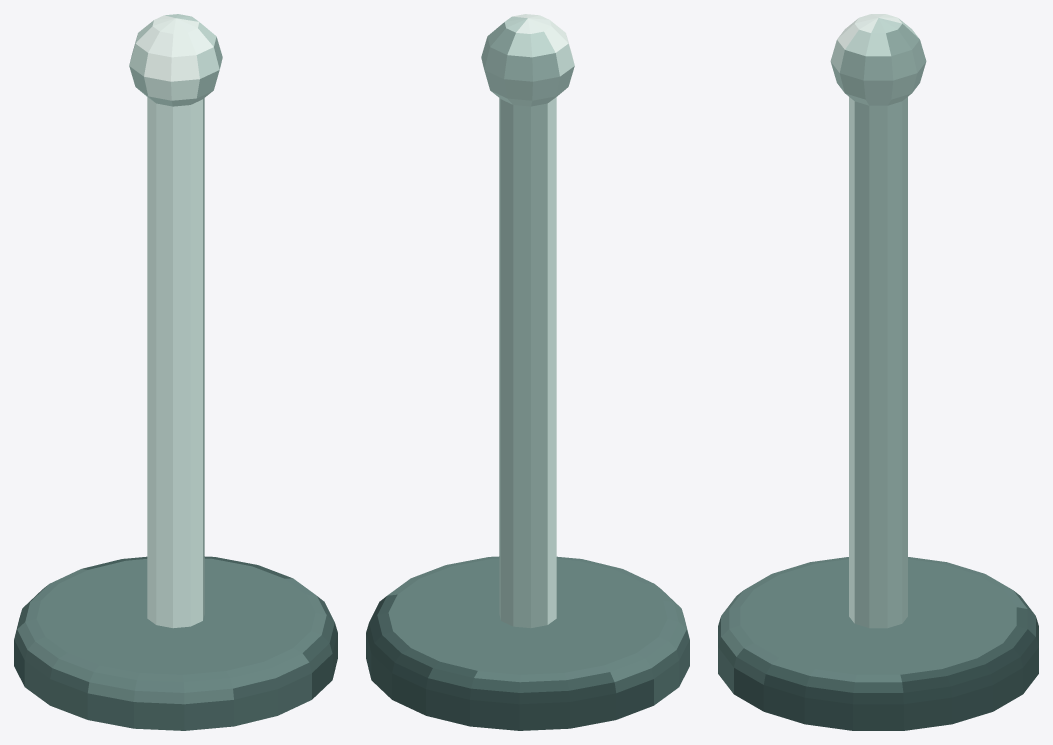
The model's file is Checkpoint_Post.gltf.
3 views of the same model, side by side, from view 1: azimuth 30°, elevation 25°; view 2: azimuth 150°, elevation 25°; view 3: azimuth 270°, elevation 25° (orthographic).
Parts seen in each view (by area): view 1: Checkpoint_Post_baked; view 2: Checkpoint_Post_baked; view 3: Checkpoint_Post_baked.
Boxes of the visible parts, box(x1,y1,x2,y2) form: Checkpoint_Post_baked: box(14, 14, 337, 730); Checkpoint_Post_baked: box(366, 14, 689, 730); Checkpoint_Post_baked: box(718, 14, 1038, 730).
Bounding box in the file's own units: 0.4346 × 0.965 × 0.4346.
